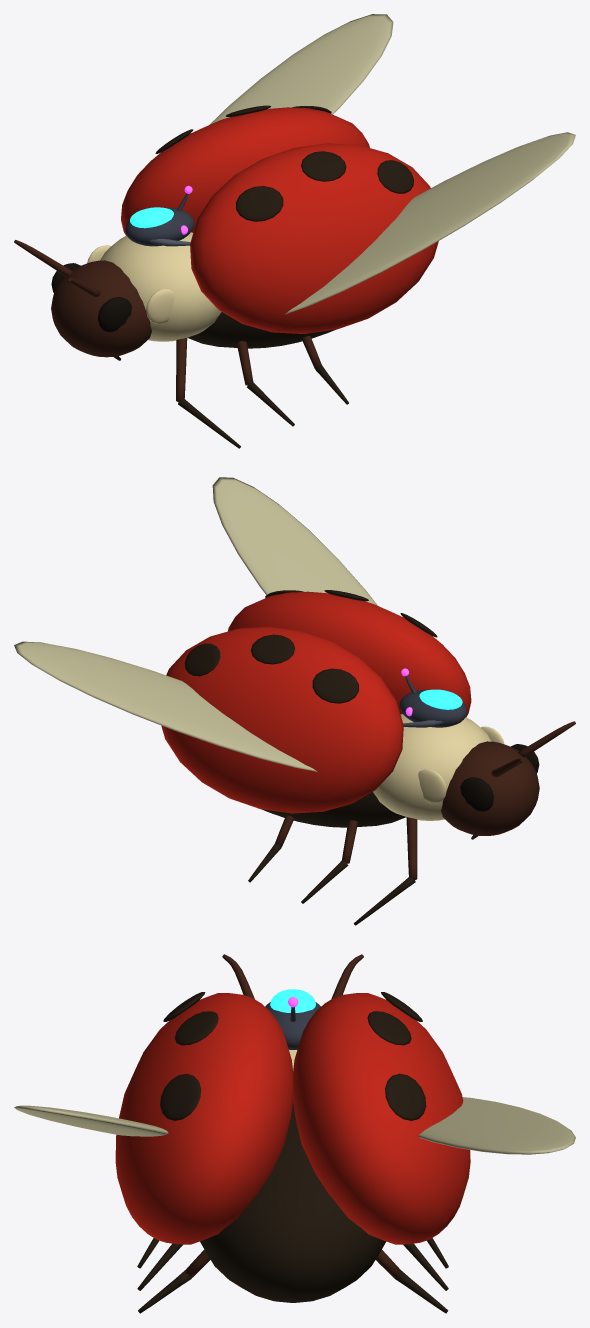
File: controlled_flying_ladybird.glb
3 views of the same model, one above another, from view 1: azimuth 30°, elevation 25°; view 2: azimuth 150°, elevation 25°; view 3: azimuth 270°, elevation 25° (orthographic). The views are drawn at different scales.
Visible parts, largest first — view 1: RedShell, RedShell.001, Wing_L, Wing_R, Head, Pronotum, Abdomen, NaturalSpot_-1_0, ControlShell, NaturalSpot_-1_1, NaturalSpot_-1_2, Eye (+3 smaller); view 2: RedShell.001, RedShell, Wing_R, Wing_L, Head, Pronotum, Abdomen, NaturalSpot_1_0, ControlShell, NaturalSpot_1_1, NaturalSpot_1_2, Eye.001 (+3 smaller); view 3: RedShell, RedShell.001, Abdomen, Wing_R, Wing_L, NaturalSpot_1_2, NaturalSpot_-1_2, NaturalSpot_-1_1, NaturalSpot_1_1, ControlShell, CyanLens, Lower.002 (+1 smaller).
Part boxes in pixels (<box>): RedShell: <box>190,143,438,333</box>; RedShell.001: <box>121,107,369,235</box>; Wing_L: <box>285,132,575,314</box>; Wing_R: <box>209,14,393,124</box>; Head: <box>51,260,151,357</box>; Pronotum: <box>100,232,221,341</box>; Abdomen: <box>187,312,335,348</box>; NaturalSpot_-1_0: <box>236,186,283,221</box>; ControlShell: <box>125,207,194,246</box>; NaturalSpot_-1_1: <box>301,151,346,181</box>; NaturalSpot_-1_2: <box>377,160,413,193</box>; Eye: <box>97,297,132,331</box>; RedShell.001: <box>161,626,403,813</box>; RedShell: <box>228,591,471,716</box>; Wing_R: <box>14,641,317,771</box>; Wing_L: <box>212,477,377,605</box>; Head: <box>441,741,539,835</box>; Pronotum: <box>373,714,491,820</box>; Abdomen: <box>262,792,405,827</box>; NaturalSpot_1_0: <box>312,668,358,703</box>; ControlShell: <box>399,689,466,727</box>; NaturalSpot_1_1: <box>250,634,294,664</box>; NaturalSpot_1_2: <box>184,643,220,676</box>; Eye.001: <box>460,777,493,811</box>; RedShell: <box>115,993,292,1244</box>; RedShell.001: <box>293,993,470,1244</box>; Abdomen: <box>200,1101,386,1302</box>; Wing_R: <box>418,1097,575,1154</box>; Wing_L: <box>14,1105,168,1136</box>; NaturalSpot_1_2: <box>385,1073,426,1120</box>; NaturalSpot_-1_2: <box>160,1073,200,1120</box>; NaturalSpot_-1_1: <box>174,1011,218,1045</box>; NaturalSpot_1_1: <box>367,1011,411,1045</box>; ControlShell: <box>265,1002,320,1049</box>; CyanLens: <box>270,989,315,1012</box>; Lower.002: <box>138,1270,191,1313</box>.
Bounding box in the file's own units: 1.33 × 0.7647 × 1.13.
